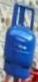cylinder: (0, 1, 38, 82)
